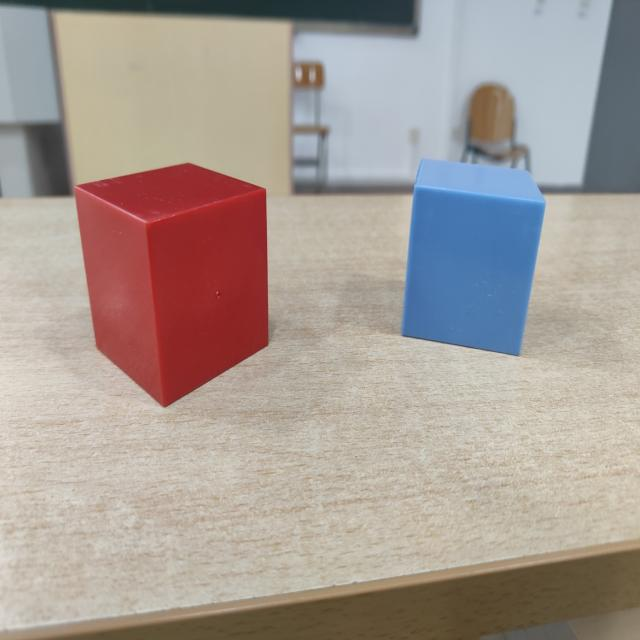blue: (400, 159, 547, 358)
red: (74, 164, 272, 409)
